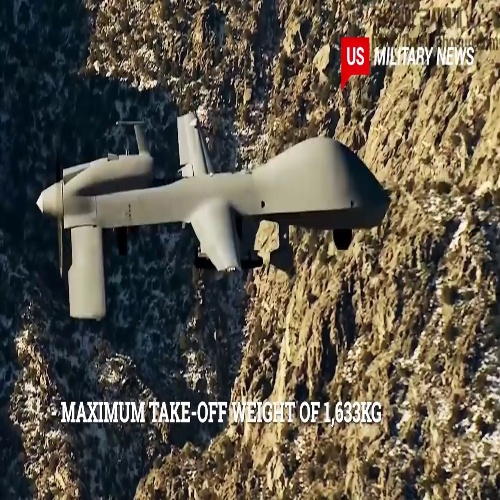uav: (31, 112, 391, 320)
